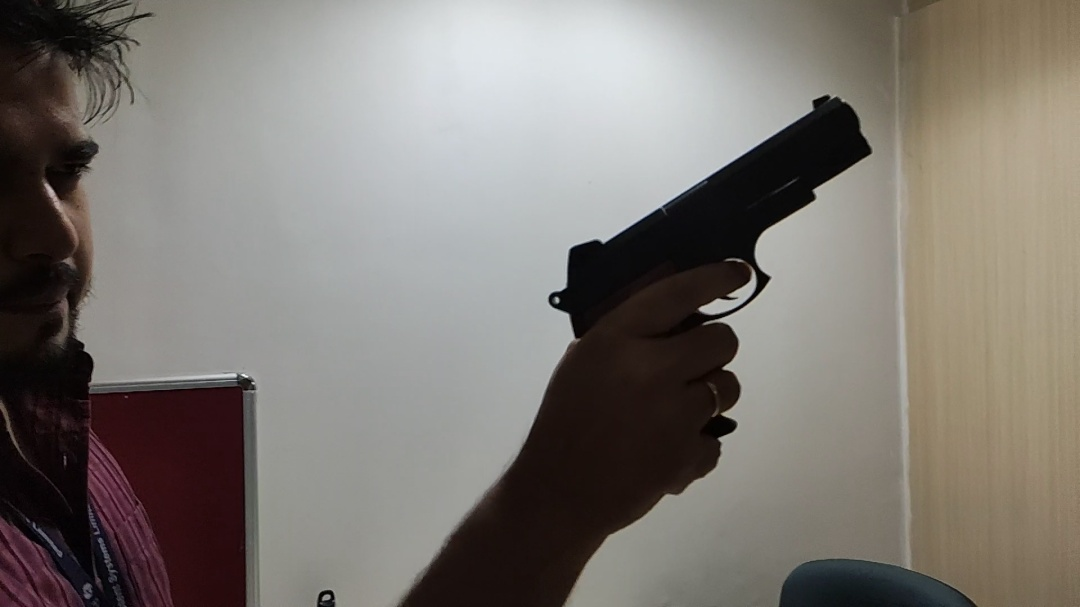gun: (544, 91, 878, 441)
